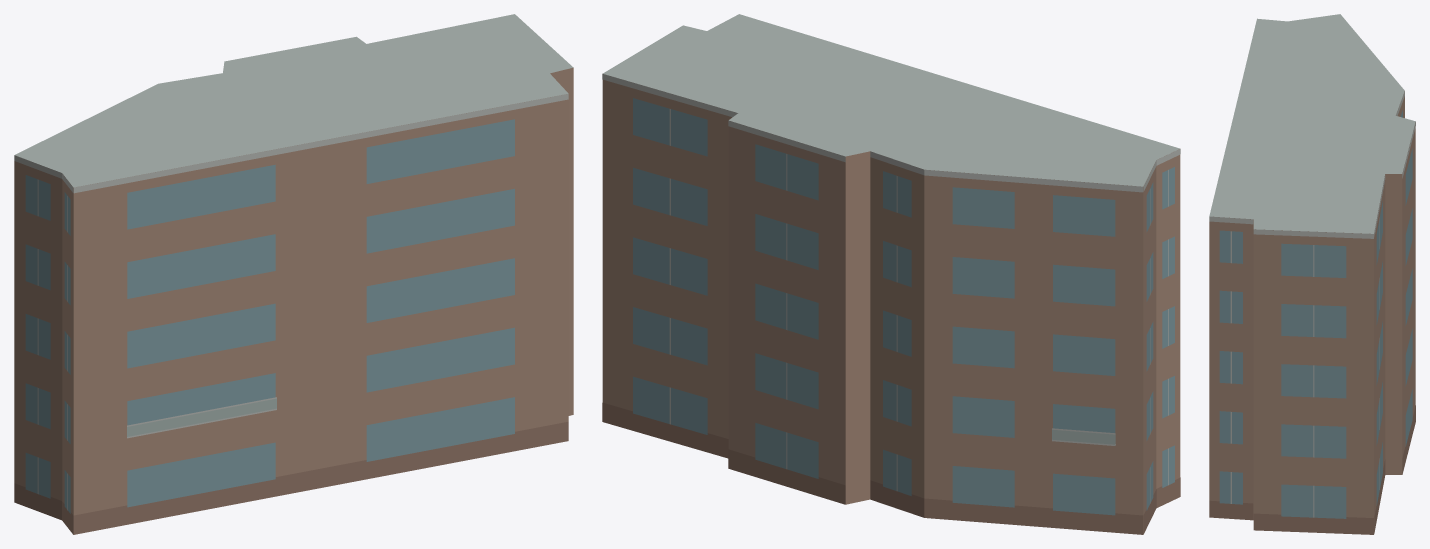
Rendered from survey-upis-32959571.glb.
3 renders of one model, left to right at view 1: azimuth 30°, elevation 25°; view 2: azimuth 150°, elevation 25°; view 3: azimuth 270°, elevation 25°, orthographic. The views are drawn at different scales.
Parts seen in each view (by area): view 1: survey-upis-32959571.tmp; view 2: survey-upis-32959571.tmp; view 3: survey-upis-32959571.tmp.
Boxes of the visible parts, bbox=[...] form: survey-upis-32959571.tmp: bbox=[14, 14, 573, 534]; survey-upis-32959571.tmp: bbox=[602, 14, 1180, 534]; survey-upis-32959571.tmp: bbox=[1209, 14, 1415, 534].
Bounding box in the file's own units: 22.89 × 14.6 × 9.09.
